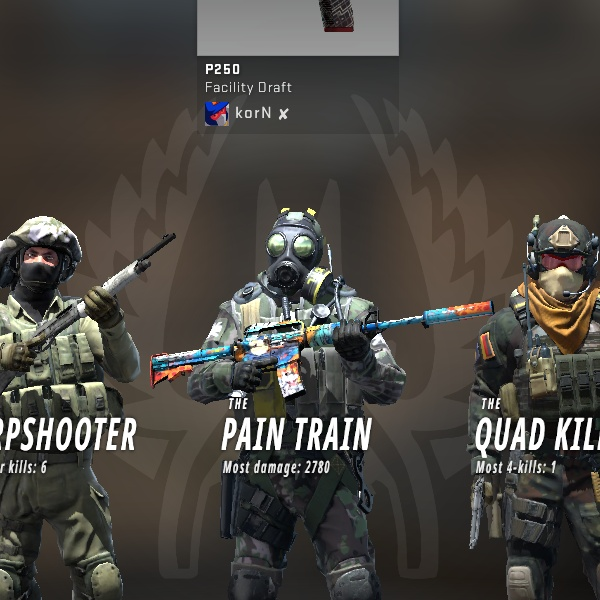ct_body: (178, 213, 387, 590), (431, 178, 586, 600), (1, 200, 163, 600)
ct_head: (0, 205, 96, 310), (511, 200, 597, 314)
